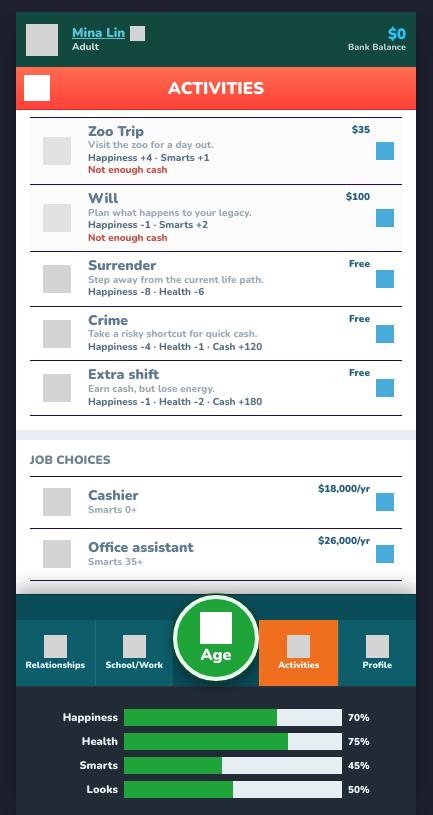
Test: App › records career changes in the central life timeline
(page scrolled)
Click the button "Cashier Smarts 0+ $18,000/yr": (113, 495) x1=30 y1=477 x2=402 y2=529
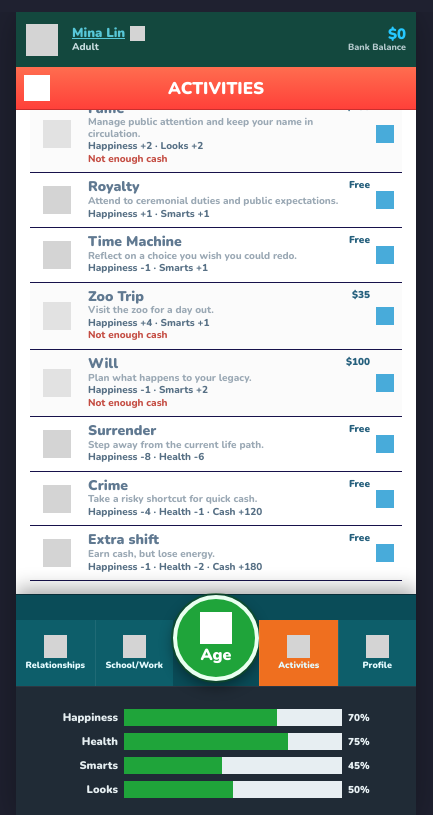
Click the button named "Life": (37, 88) x1=16 y1=67 x2=58 y2=109
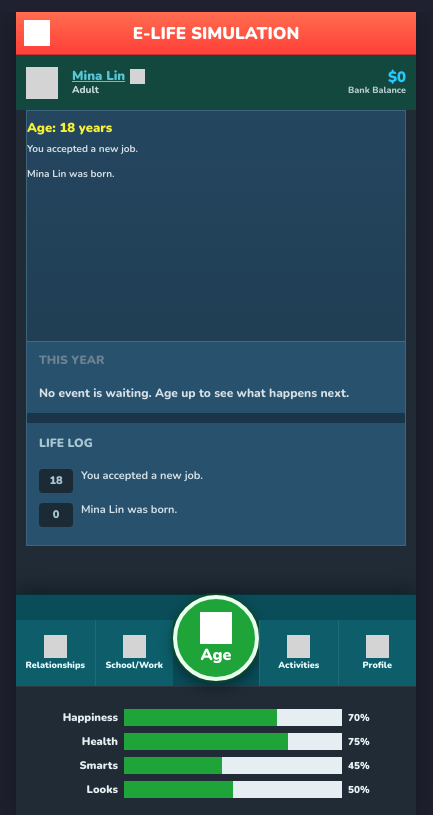
Expected: the list item "You accepted a new job." is shown, x1=81 y1=468 x2=203 y2=483
